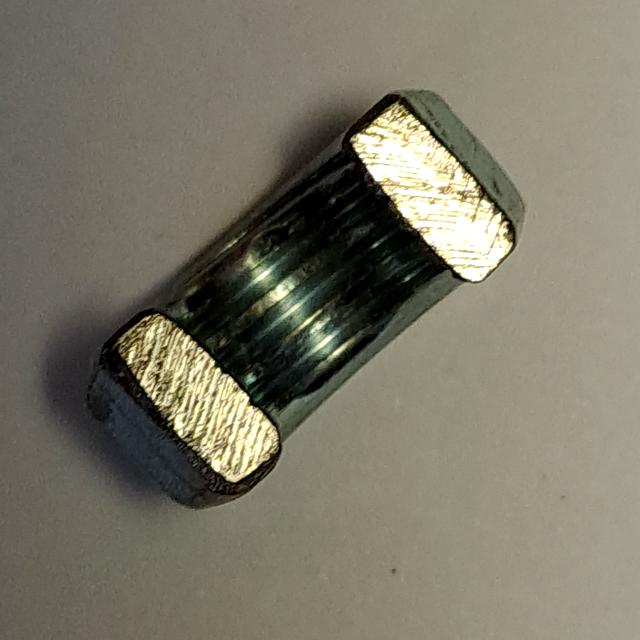Side-Fracture: (74, 72, 533, 525)
